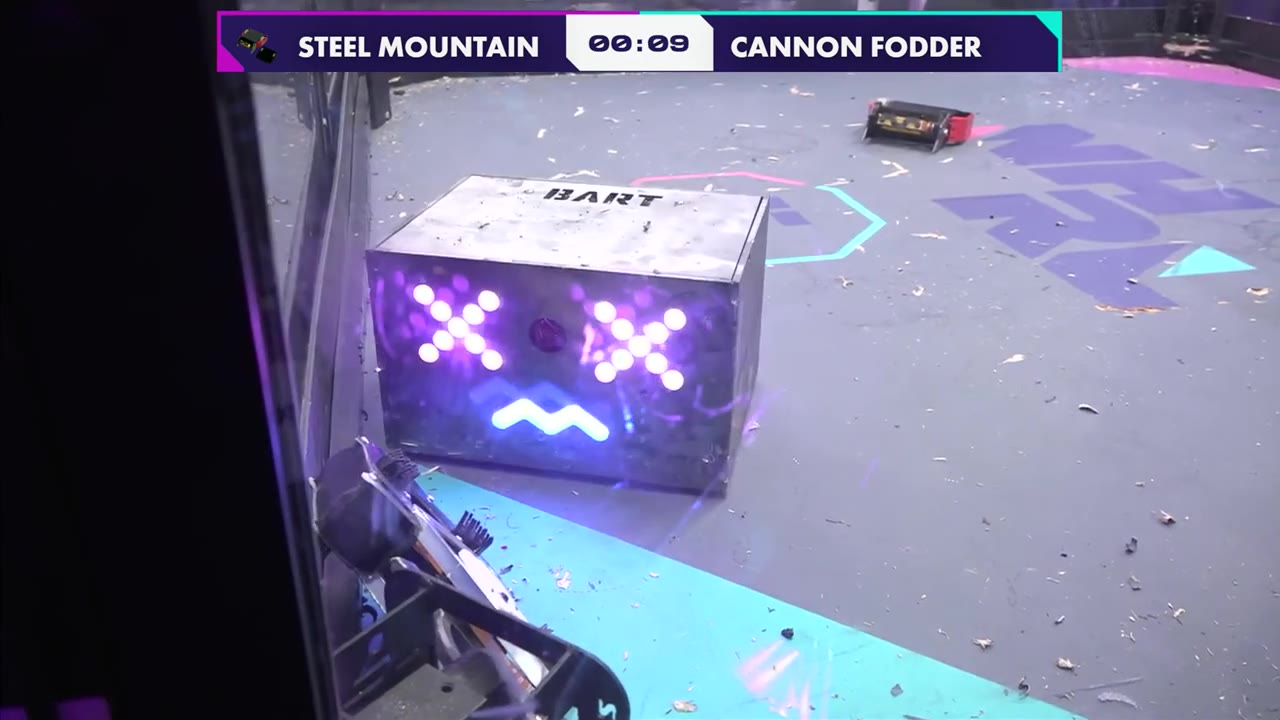combatbot: (321, 439, 634, 716), (859, 99, 976, 156)
housebot: (365, 172, 769, 492)
